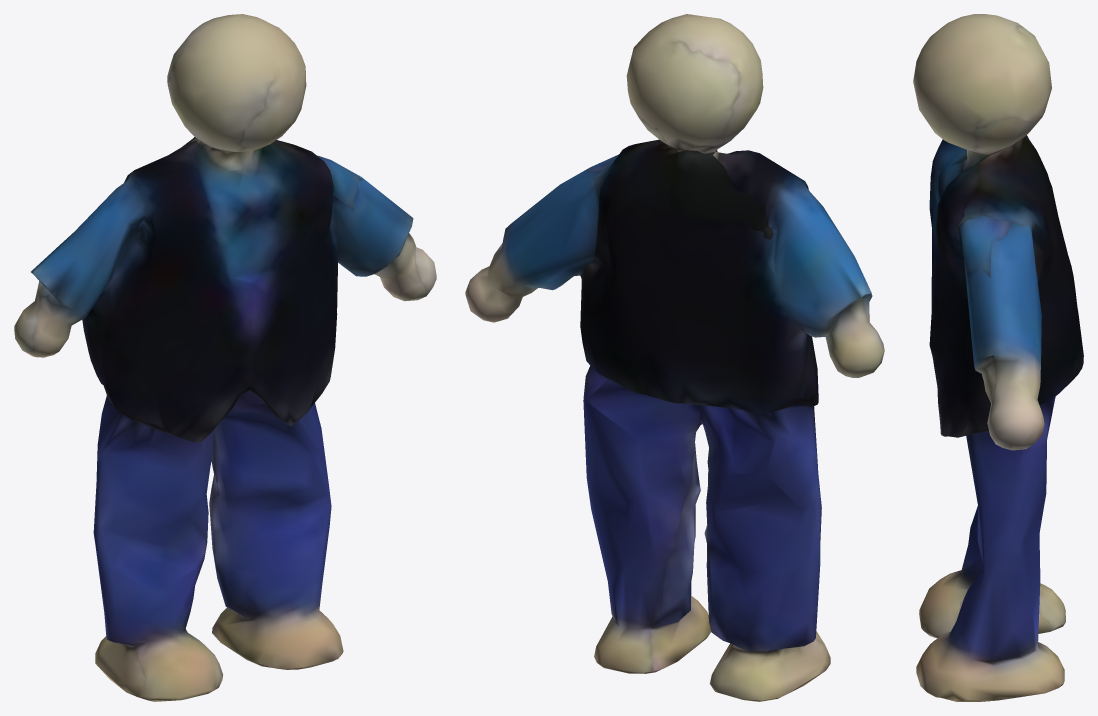
The model's file is GRANDFATHER_DOLL-medium.glb.
The picture shows the model from 3 angles, left to right: view 1: azimuth 30°, elevation 25°; view 2: azimuth 150°, elevation 25°; view 3: azimuth 270°, elevation 25°; orthographic projection.
Visible parts, largest first — view 1: GRANDFATHER_DOLL; view 2: GRANDFATHER_DOLL; view 3: GRANDFATHER_DOLL.
Boxes of the visible parts, <box> form: GRANDFATHER_DOLL: <box>14,14,436,701</box>; GRANDFATHER_DOLL: <box>465,14,884,701</box>; GRANDFATHER_DOLL: <box>913,14,1083,701</box>.
Size of the model in its own units: 0.088 by 0.129 by 0.0312.
Materials: 1 (1 with a texture image).
